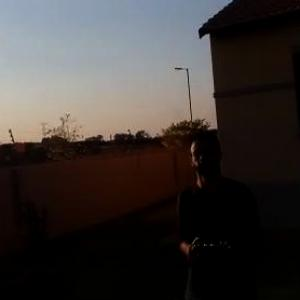follow: (162, 126, 260, 299)
